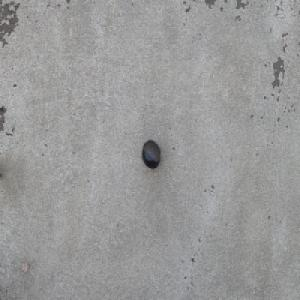FuelCap: (141, 139, 160, 169)
